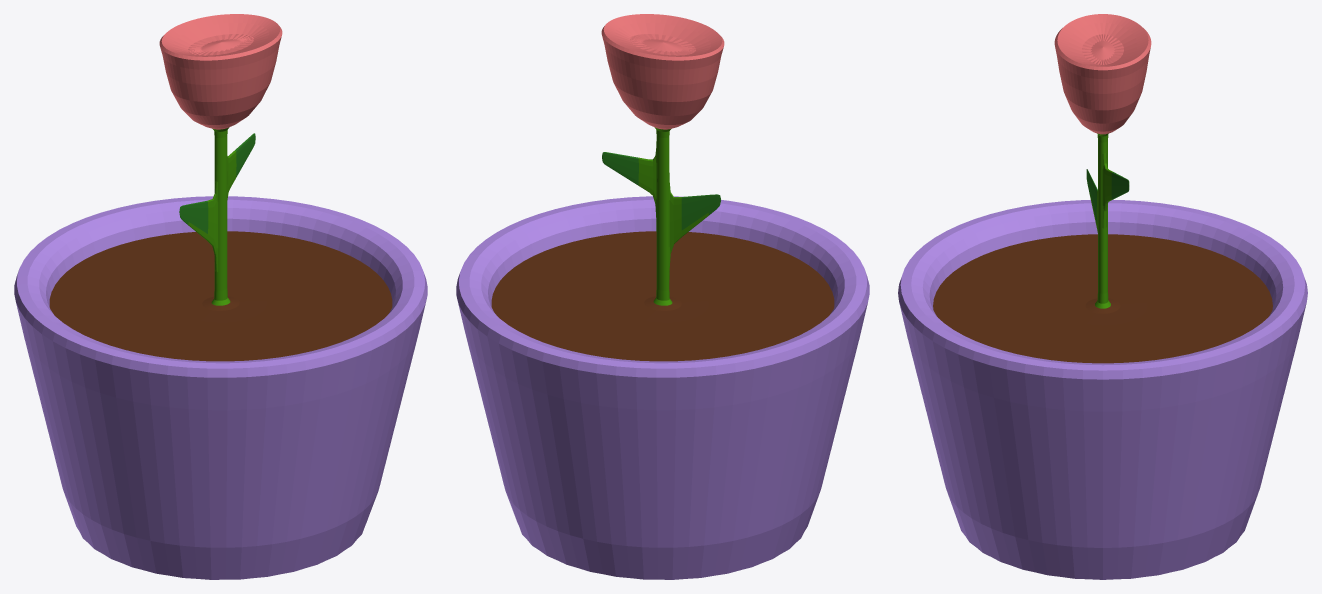
The model's file is cicek1.fbx.
3 views of the same model, side by side, from view 1: azimuth 30°, elevation 25°; view 2: azimuth 150°, elevation 25°; view 3: azimuth 270°, elevation 25° (orthographic).
Visible parts, largest first — view 1: Circle.006; view 2: Circle.006; view 3: Circle.006.
Part boxes in pixels (bbox=[...]): Circle.006: bbox=[14, 14, 427, 579]; Circle.006: bbox=[456, 14, 869, 579]; Circle.006: bbox=[898, 14, 1307, 579].
Bounding box in the file's own units: 27.2 × 35.95 × 27.2.
